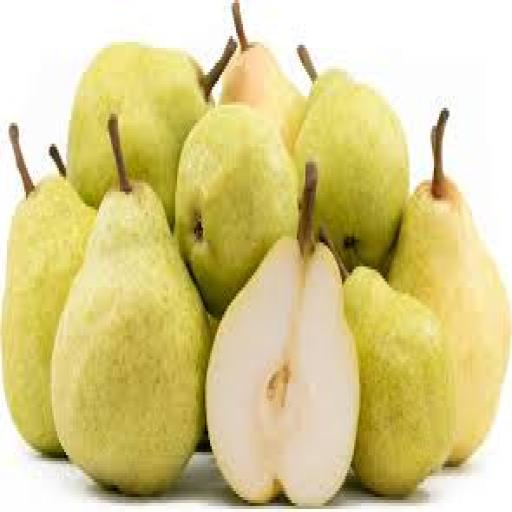Pear: (53, 117, 210, 494), (207, 165, 359, 506), (389, 111, 510, 464), (68, 39, 236, 224), (2, 126, 95, 455), (176, 105, 298, 317), (294, 48, 409, 269), (344, 267, 454, 497)
